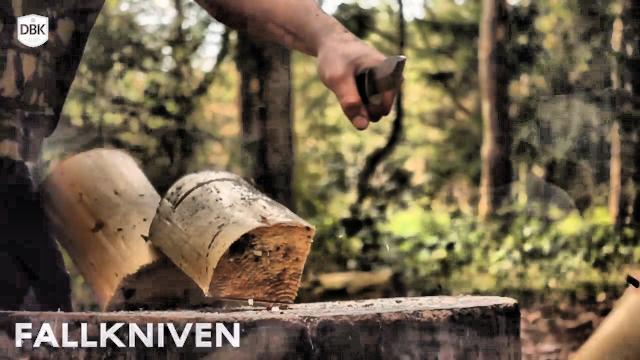knife: (336, 46, 416, 134)
